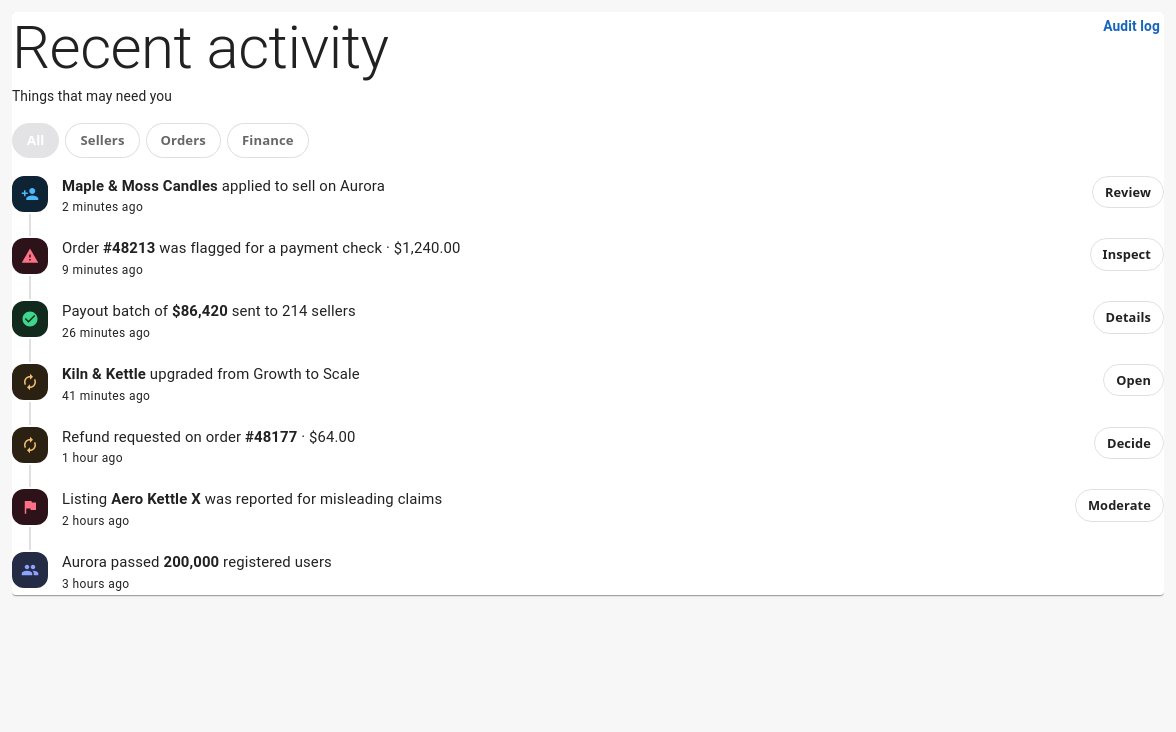
Scenario: ActivityFeed › renders all events by default and filters
Expected: the heading "Recent activity" is shown, left=12, top=12, right=389, bottom=84
Click the button "Sellers".
click(102, 140)  # box left=65, top=123, right=140, bottom=158
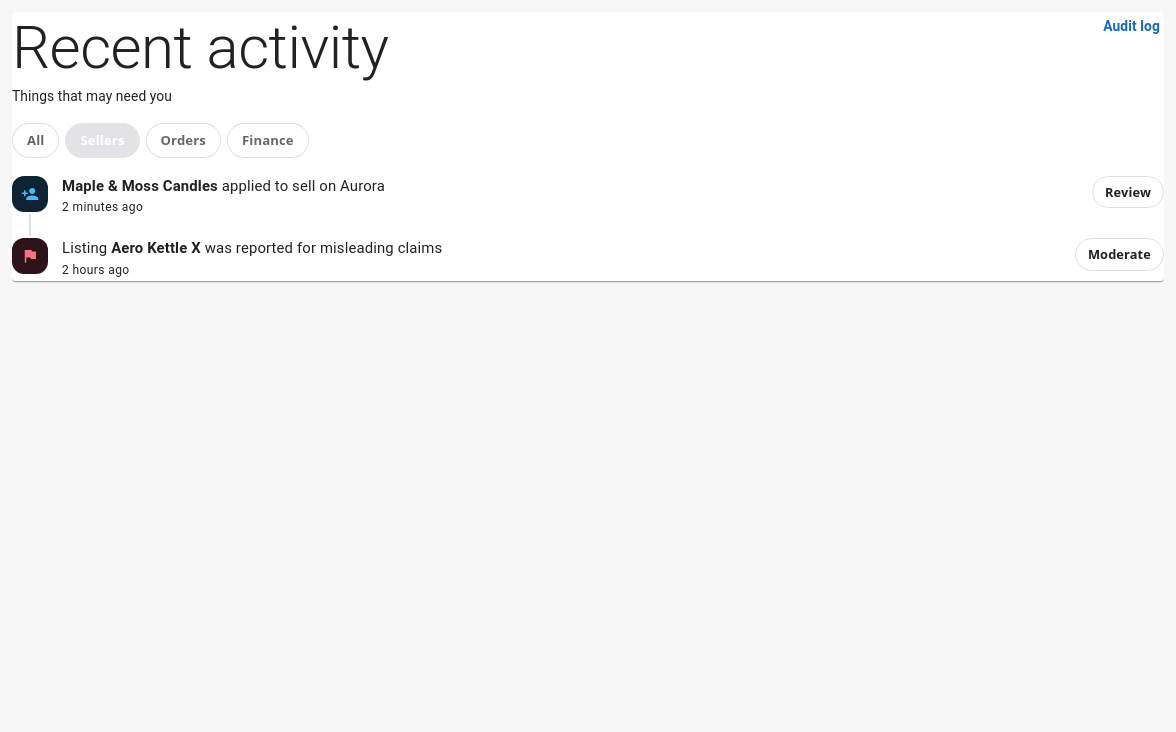
Expected: the button "Sellers" is pressed, left=65, top=123, right=140, bottom=158
// finance-only view hides seller copy
Click the button "Finance".
click(268, 140)  # box left=227, top=123, right=309, bottom=158
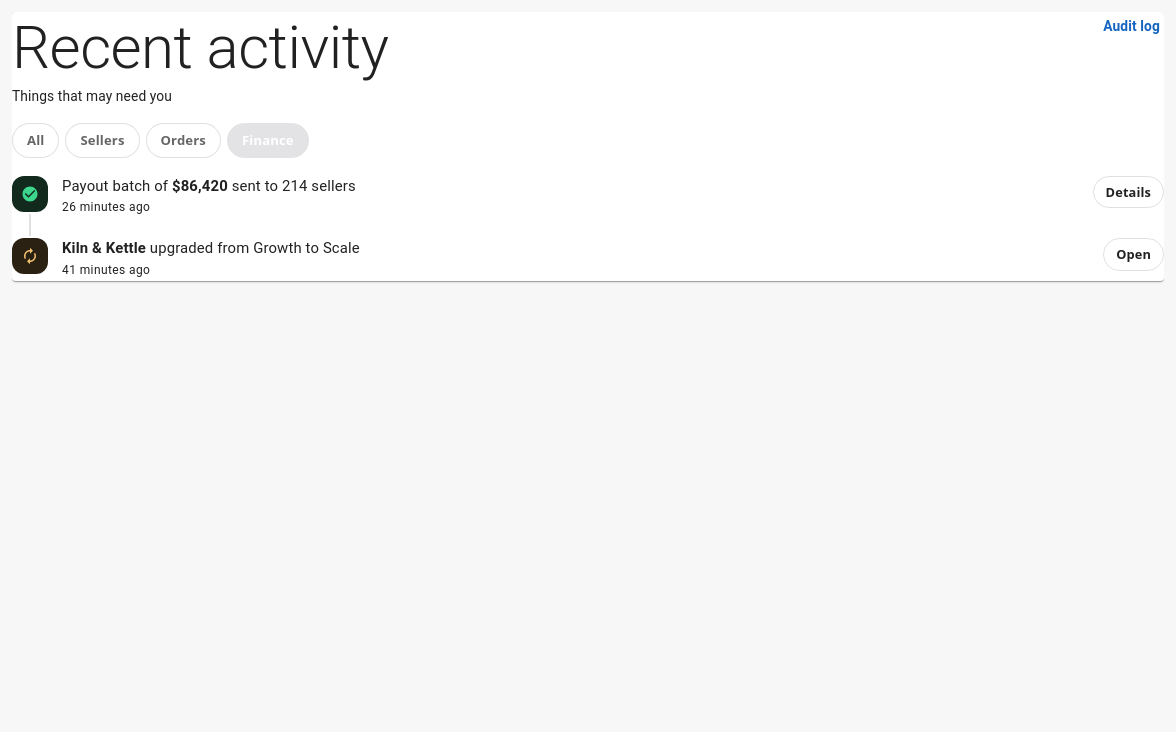
Expected: the text "Maple & Moss" is gone
